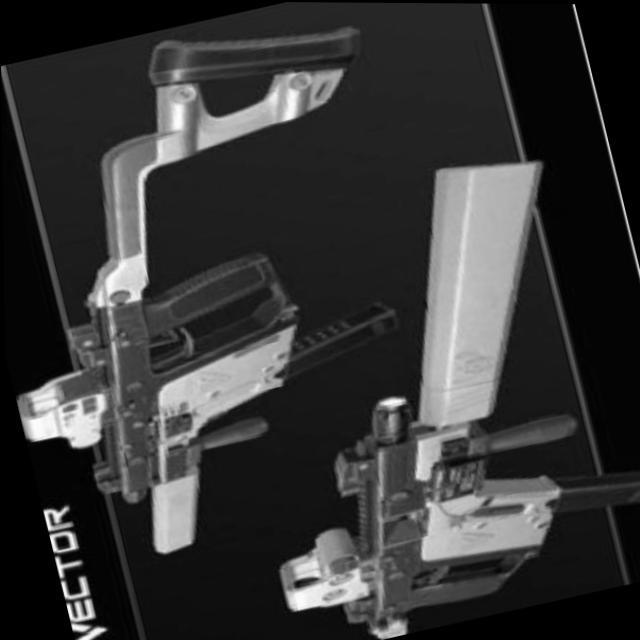weapon: (0, 0, 469, 580), (187, 131, 640, 640)
